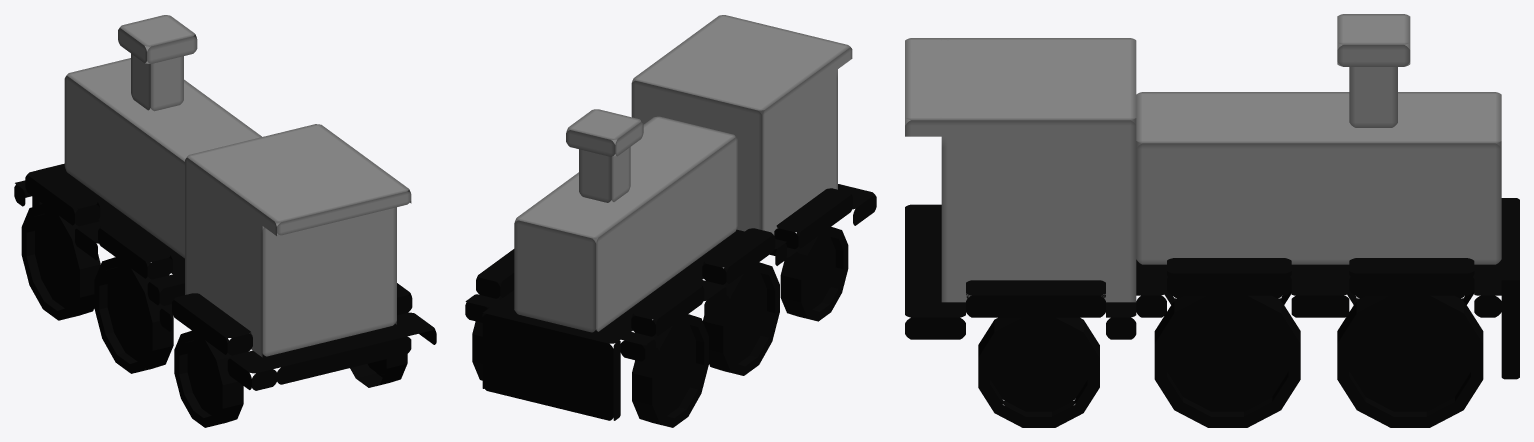
The model's file is TestTrain1.obj.
3 views of the same model, side by side, from view 1: azimuth 30°, elevation 25°; view 2: azimuth 150°, elevation 25°; view 3: azimuth 270°, elevation 25° (orthographic). The views are drawn at different scales.
Parts seen in each view (by area): view 1: mesh, 1_L, 2_L, 3_L, 3_R; view 2: mesh, 1_L, 2_L, 3_L, 1_R; view 3: mesh, 2_R, 1_R, 3_R.
Boxes of the visible parts, x1=… form: mesh: x1=14, y1=15, x2=436, y2=390; 1_L: x1=21, y1=204, x2=100, y2=320; 2_L: x1=94, y1=257, x2=173, y2=373; 3_L: x1=174, y1=330, x2=243, y2=427; 3_R: x1=350, y1=354, x2=407, y2=387; mesh: x1=465, y1=15, x2=876, y2=420; 1_L: x1=632, y1=314, x2=708, y2=427; 2_L: x1=702, y1=262, x2=779, y2=375; 3_L: x1=780, y1=226, x2=848, y2=321; 1_R: x1=472, y1=281, x2=502, y2=380; mesh: x1=905, y1=14, x2=1519, y2=379; 2_R: x1=1154, y1=295, x2=1300, y2=427; 1_R: x1=1337, y1=295, x2=1483, y2=427; 3_R: x1=978, y1=317, x2=1099, y2=427.
Size of the model in its own units: 1.38 by 1.94 by 3.16.
Materials: 2 (2 with a texture image).
